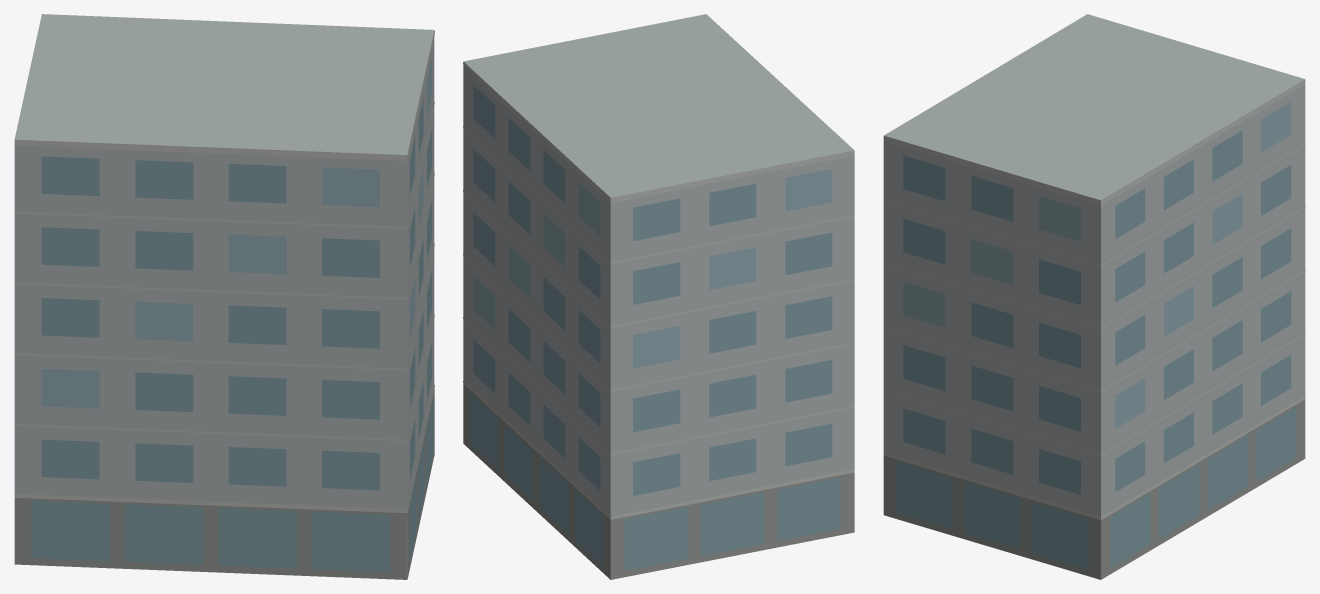
File: survey-upis-32744031.glb
The picture shows the model from 3 angles, left to right: view 1: azimuth 30°, elevation 25°; view 2: azimuth 150°, elevation 25°; view 3: azimuth 270°, elevation 25°; orthographic projection. The views are drawn at different scales.
Parts seen in each view (by area): view 1: survey-upis-32744031.tmp; view 2: survey-upis-32744031.tmp; view 3: survey-upis-32744031.tmp.
Part boxes in pixels (box(x1,y1,x2,y2)): survey-upis-32744031.tmp: box(14, 14, 434, 579); survey-upis-32744031.tmp: box(463, 14, 854, 579); survey-upis-32744031.tmp: box(883, 14, 1305, 579).
Bounding box in the file's own units: 18.03 × 17.1 × 17.24.
